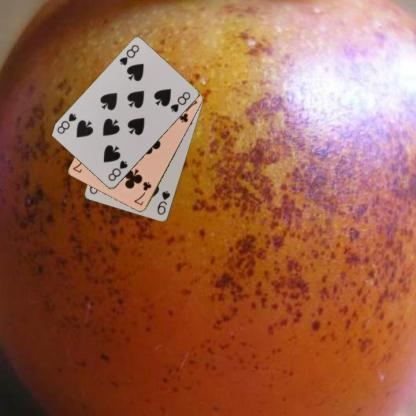7c: (131, 179, 153, 207)
8s: (106, 158, 129, 183), (117, 42, 140, 67)
9s: (154, 188, 172, 216)
